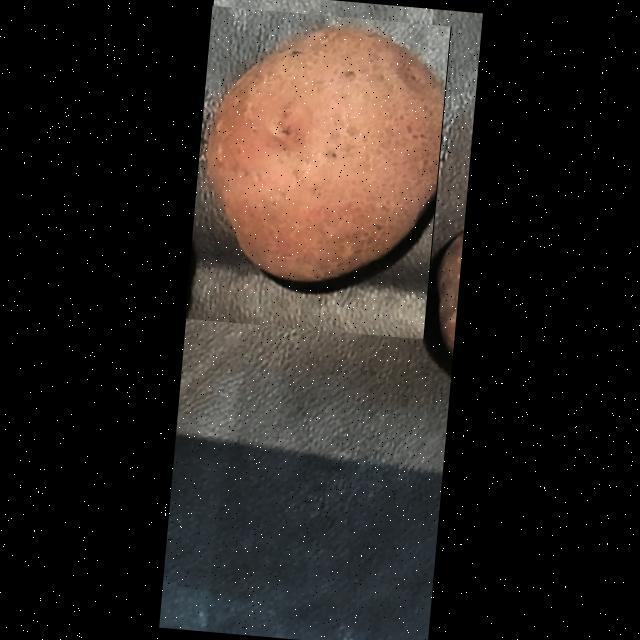Diseased-fungal potato: (185, 6, 451, 340)
